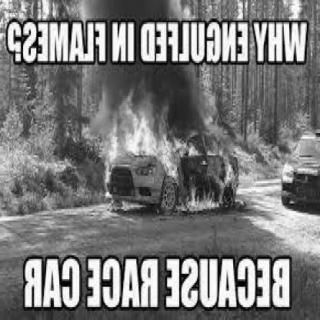Smoke: (62, 0, 222, 74)
